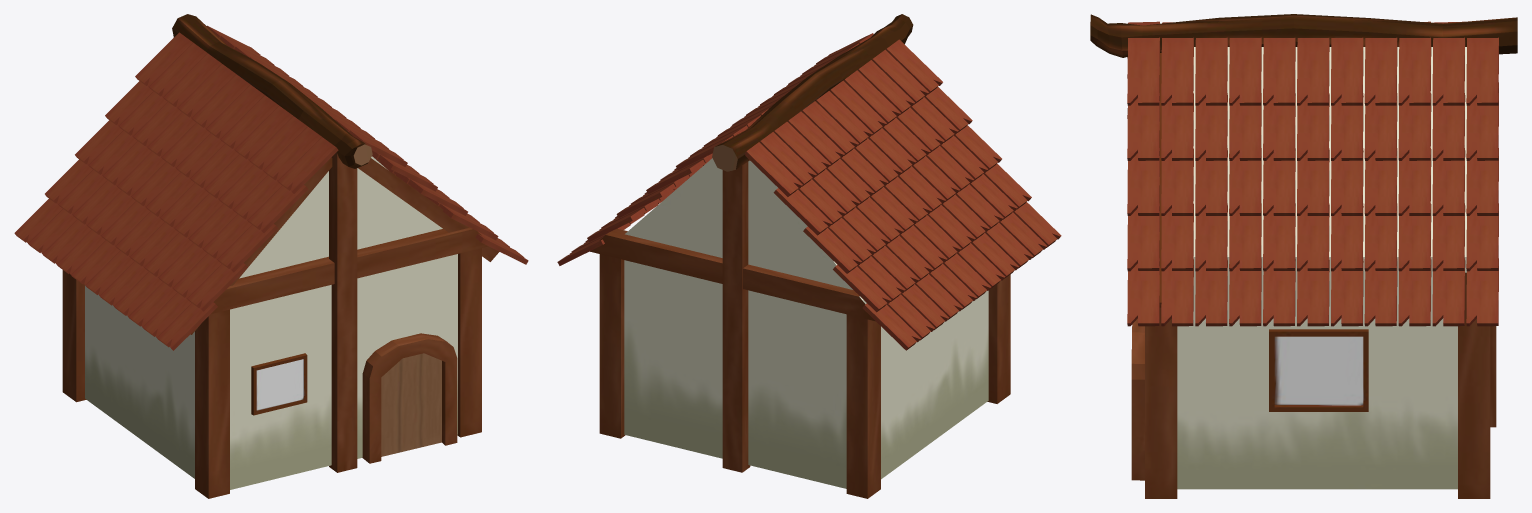
The model's file is House_Kambim3.fbx.
3 renders of one model, left to right at view 1: azimuth 30°, elevation 25°; view 2: azimuth 150°, elevation 25°; view 3: azimuth 270°, elevation 25°, orthographic. The views are drawn at different scales.
Parts seen in each view (by area): view 1: LOD_0; view 2: LOD_0; view 3: LOD_0.
Part boxes in pixels (x1=…): LOD_0: x1=14, y1=14, x2=528, y2=498; LOD_0: x1=557, y1=14, x2=1061, y2=498; LOD_0: x1=1090, y1=14, x2=1517, y2=498.
Size of what is drawn, in the model's own units: 227 by 207 by 198.
